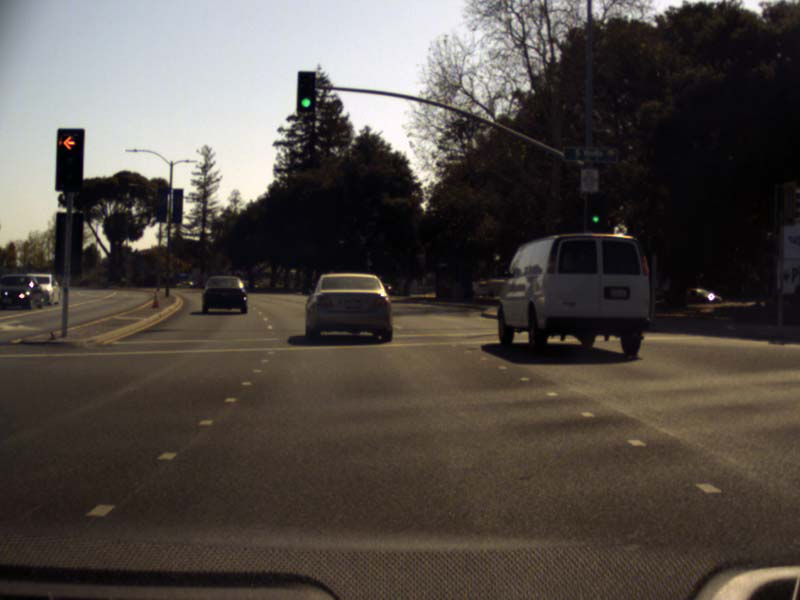Green: (298, 71, 317, 114), (587, 195, 604, 228)
Red: (56, 126, 84, 191)
